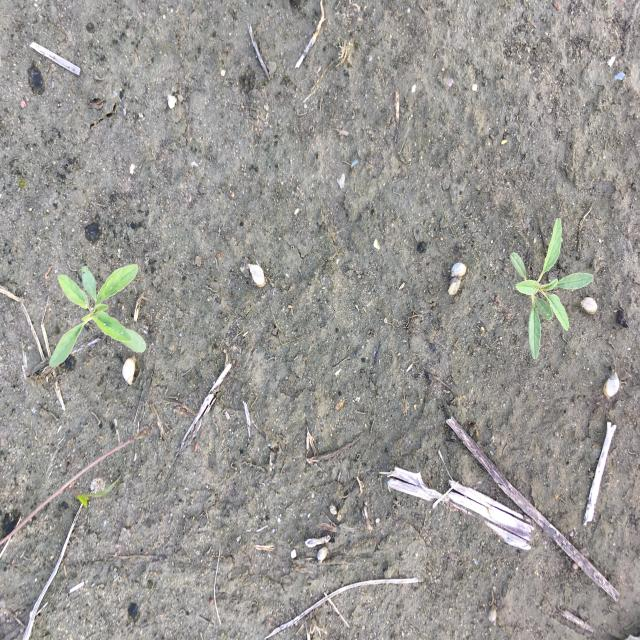Waterhemp: (510, 217, 596, 361), (48, 263, 148, 368)
